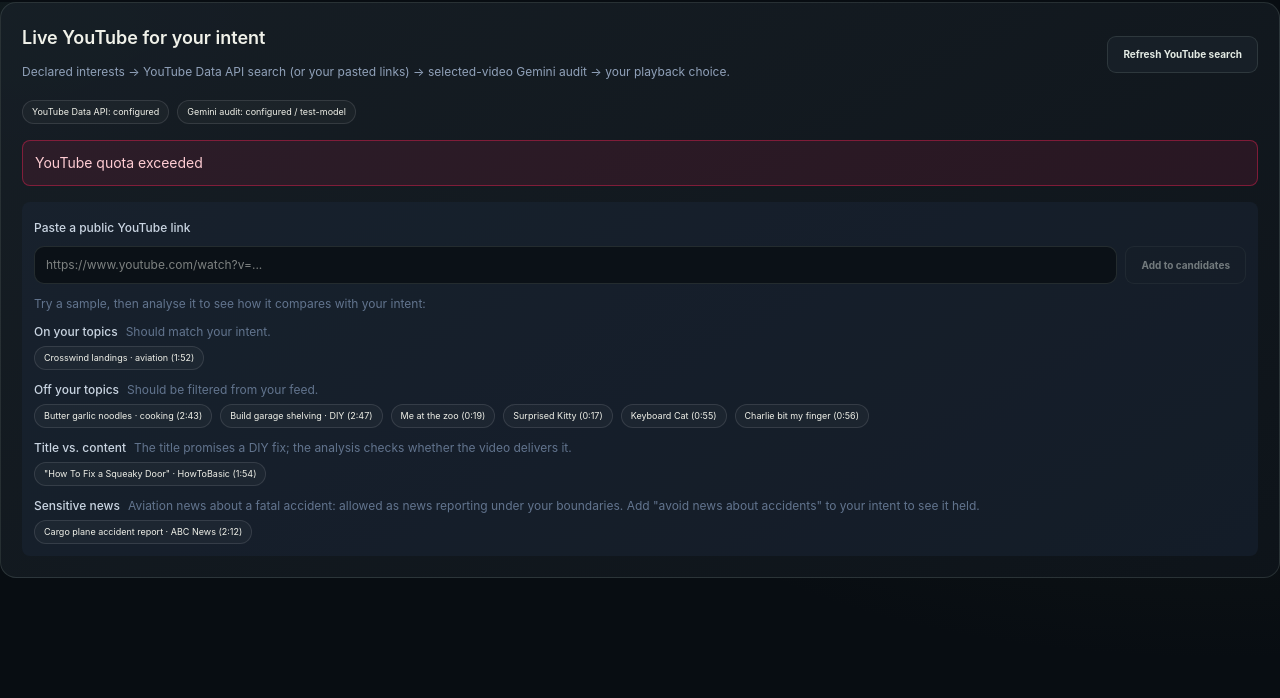
YouTube discovery › surfaces search failure and allows a retry
This screenshot has width=1280, height=698.
Expected: the message reads "YouTube quota exceeded", [35,154,203,171]
Click the button "Refresh YouTube search": (1183, 54) [1107,36,1258,72]
(page scrolled)
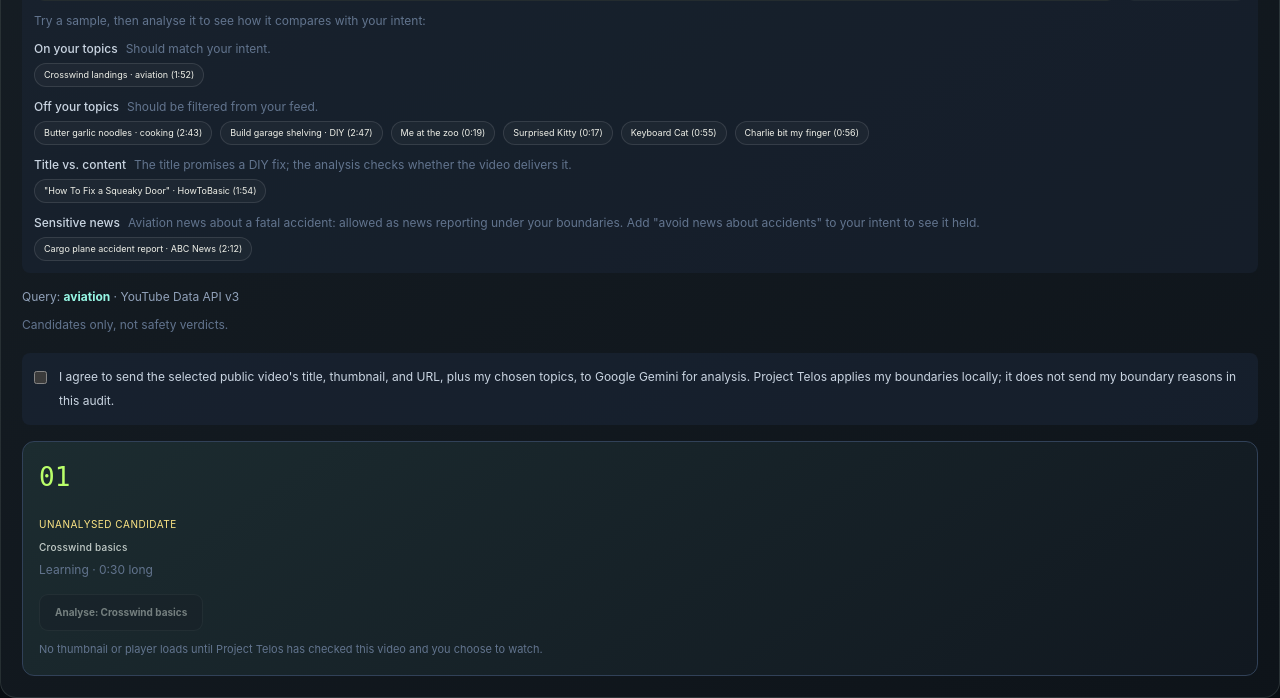
Now the heading "Crosswind basics" is shown, box [39,541,128,553]
